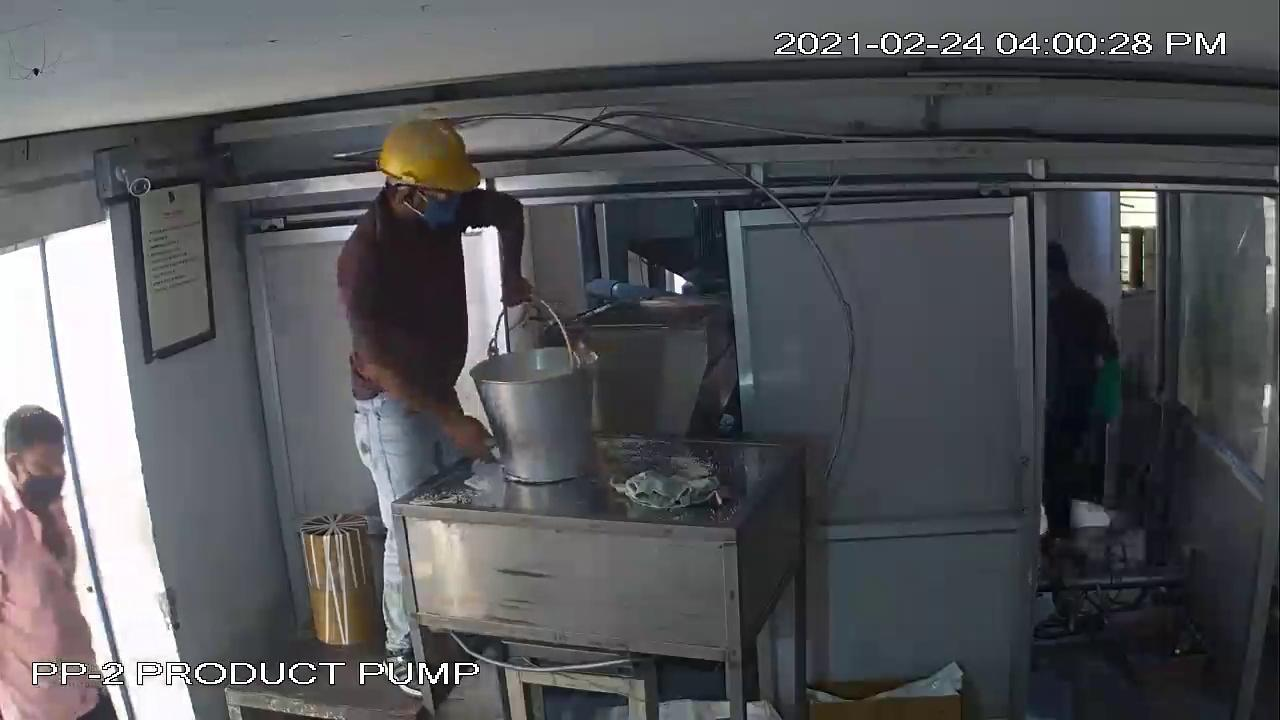helmet: (374, 110, 479, 197)
